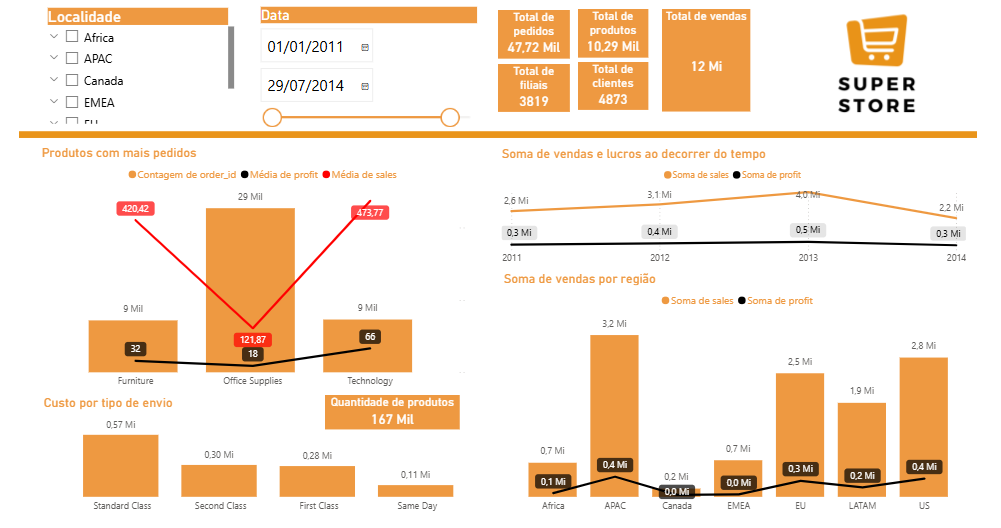

What the dashboard file says about the page in this screenshot:
{"tool":"powerbi","page":{"name":"Página 1","canvas":[1280,720],"ordinal":0},"visuals":[{"type":"card","title":"Total de produtos","fields":{"Values":["CountNonNull(dim_products.product_id)"]},"box":[746.2,19.4,93.5,64.7],"z":0},{"type":"card","title":"Total de pedidos","fields":{"Values":["CountNonNull(fact_orders.order_id)"]},"box":[640.2,21,95.7,65],"z":1000},{"type":"lineStackedColumnComboChart","title":"Soma de vendas por região ","fields":{"Category":["dim_local.market Hierarquia.market","dim_local.market Hierarquia.country","dim_local.market Hierarquia.region","dim_local.market Hierarquia.state","dim_local.market Hierarquia.city"],"Y":["Sum(fact_orders.sales)"],"Y2":["Sum(fact_orders.profit)"]},"box":[642,370,638,332],"z":2000},{"type":"lineChart","title":"Soma de vendas e lucros ao decorrer do tempo","fields":{"Y":["Sum(fact_orders.sales)","Sum(fact_orders.profit)"],"Category":["fact_orders.order_date.Variation.Hierarquia de datas.Ano","fact_orders.order_date.Variation.Hierarquia de datas.Trimestre","fact_orders.order_date.Variation.Hierarquia de datas.Mês","fact_orders.order_date.Variation.Hierarquia de datas.Dia"]},"box":[640,202.5,630,167.5],"z":3000},{"type":"slicer","fields":{"Values":["dim_local.market Hierarquia.market","dim_local.market Hierarquia.region","dim_local.market Hierarquia.state","dim_local.market Hierarquia.city","dim_local.market Hierarquia.country"]},"box":[25,13.3,266.7,165],"z":4000},{"type":"slicer","fields":{"Values":["fact_orders.order_date"]},"box":[310,11.7,315,165],"z":5000},{"type":"columnChart","title":"Custo por tipo de envio","fields":{"Y":["Sum(fact_orders.shipping_cost)"],"Category":["fact_orders.ship_mode"]},"box":[28,536,614,166],"z":6000},{"type":"card","title":"Total de filiais","fields":{"Values":["CountNonNull(dim_local.local_id)"]},"box":[640.2,93.1,95.7,63.6],"z":7000},{"type":"card","title":"Total de clientes","fields":{"Values":["CountNonNull(dim_customers.customer_ID)"]},"box":[746.2,91.2,93.5,64.1],"z":8000},{"type":"card","title":"Total de vendas","fields":{"Values":["Sum(fact_orders.sales)"]},"box":[858.3,20,118.3,136.7],"z":9000},{"type":"lineStackedColumnComboChart","title":"Produtos com mais pedidos","fields":{"Category":["dim_products.category Hierarquia.category","dim_products.category Hierarquia.sub_category"],"Y":["CountNonNull(fact_orders.order_id)"],"Y2":["Avg(fact_orders.profit)","Avg(fact_orders.sales)"]},"box":[26,202,604,334],"z":10000},{"type":"card","title":"Quantidade de produtos","fields":{"Values":["Sum(fact_orders.quantity)"]},"box":[408.8,536.2,180,46.2],"z":11000}]}

Visuals, with their boxes on the page's 1280x720 design canvas (x1, y1, x2, y2). These are canvas units, not pixel positions in the 1001x528 screenshot, which may show the page scaled, cropped or inside an application window:
"Total de produtos" card: Rect(746, 19, 840, 84)
"Total de pedidos" card: Rect(640, 21, 736, 86)
"Soma de vendas por região " lineStackedColumnComboChart: Rect(642, 370, 1280, 702)
"Soma de vendas e lucros ao decorrer do tempo" lineChart: Rect(640, 202, 1270, 370)
slicer - dim_local.market Hierarquia.market x dim_local.market Hierarquia.region: Rect(25, 13, 292, 178)
slicer - fact_orders.order_date: Rect(310, 12, 625, 177)
"Custo por tipo de envio" columnChart: Rect(28, 536, 642, 702)
"Total de filiais" card: Rect(640, 93, 736, 157)
"Total de clientes" card: Rect(746, 91, 840, 155)
"Total de vendas" card: Rect(858, 20, 977, 157)
"Produtos com mais pedidos" lineStackedColumnComboChart: Rect(26, 202, 630, 536)
"Quantidade de produtos" card: Rect(409, 536, 589, 582)
